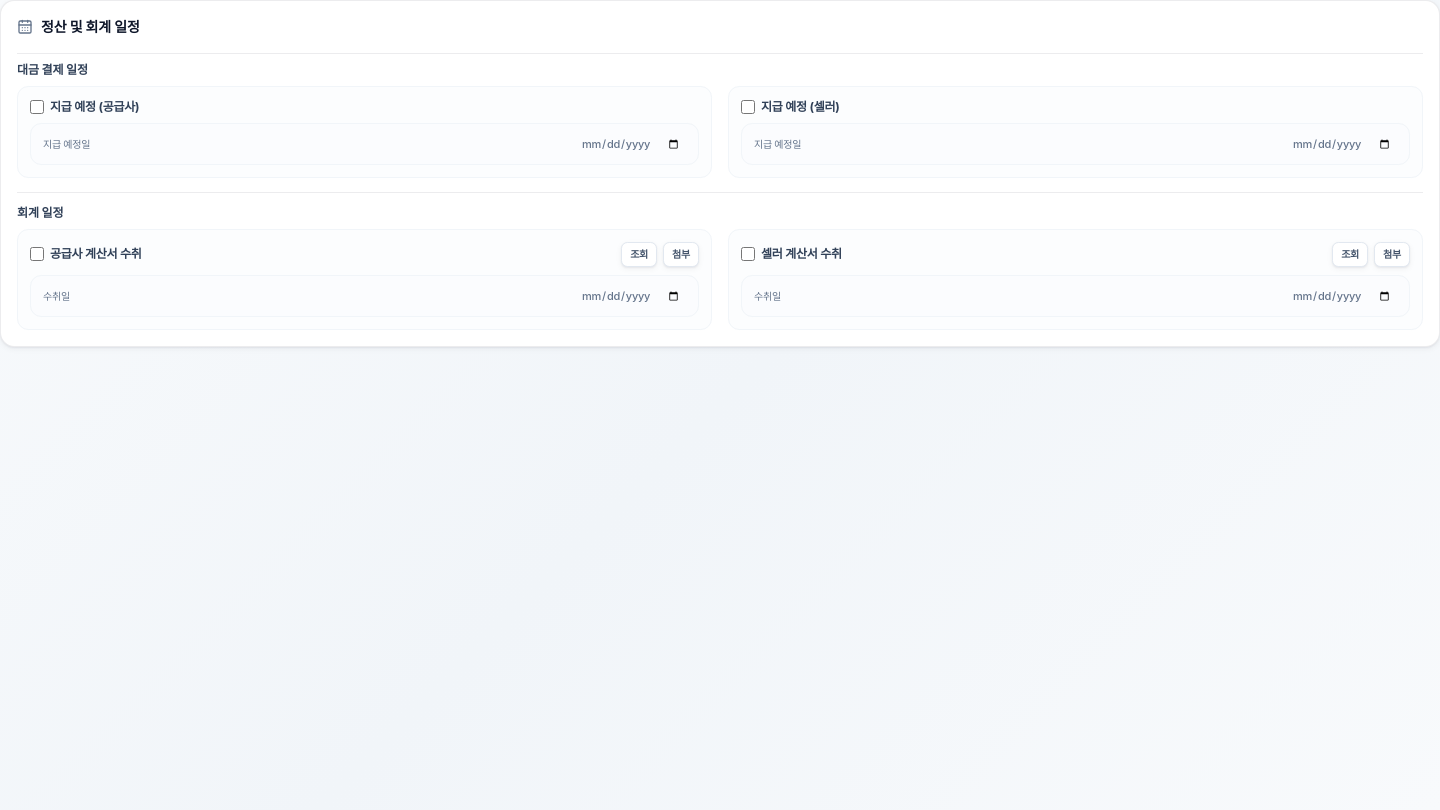
Test case: SettlementSection — VERIFIED 건의 승인 경로 › 조회한 칸의 계산서만 그 모달에 뜬다 — 형제 칸의 건이 섞이지 않는다
Note: 공급사 칸에서 조회하면 셀러 슬롯의 이 건은 그 모달에 없어야 한다.
Click the button "조회".
click(639, 254)  # box [621, 242, 657, 267]
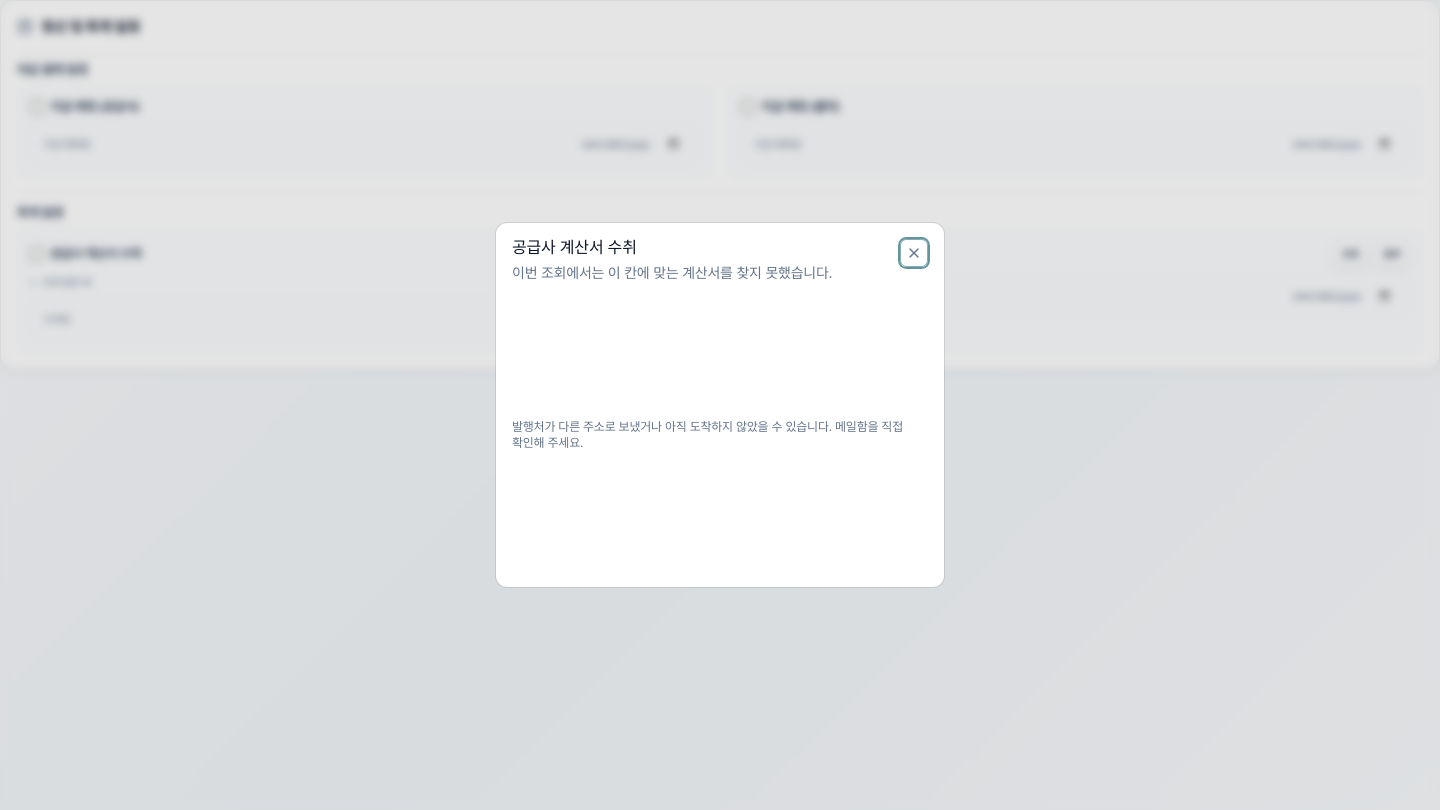
Expected: the button "승인" is not shown
Now the text "이번 조회에서는 이 칸에 맞는 계산서를 찾지 못했습니다." is shown, box [512, 263, 832, 283]
Now the number of buttons named "닫기" is 1
Click the button named "닫기".
click(914, 253)  # box [900, 239, 928, 267]
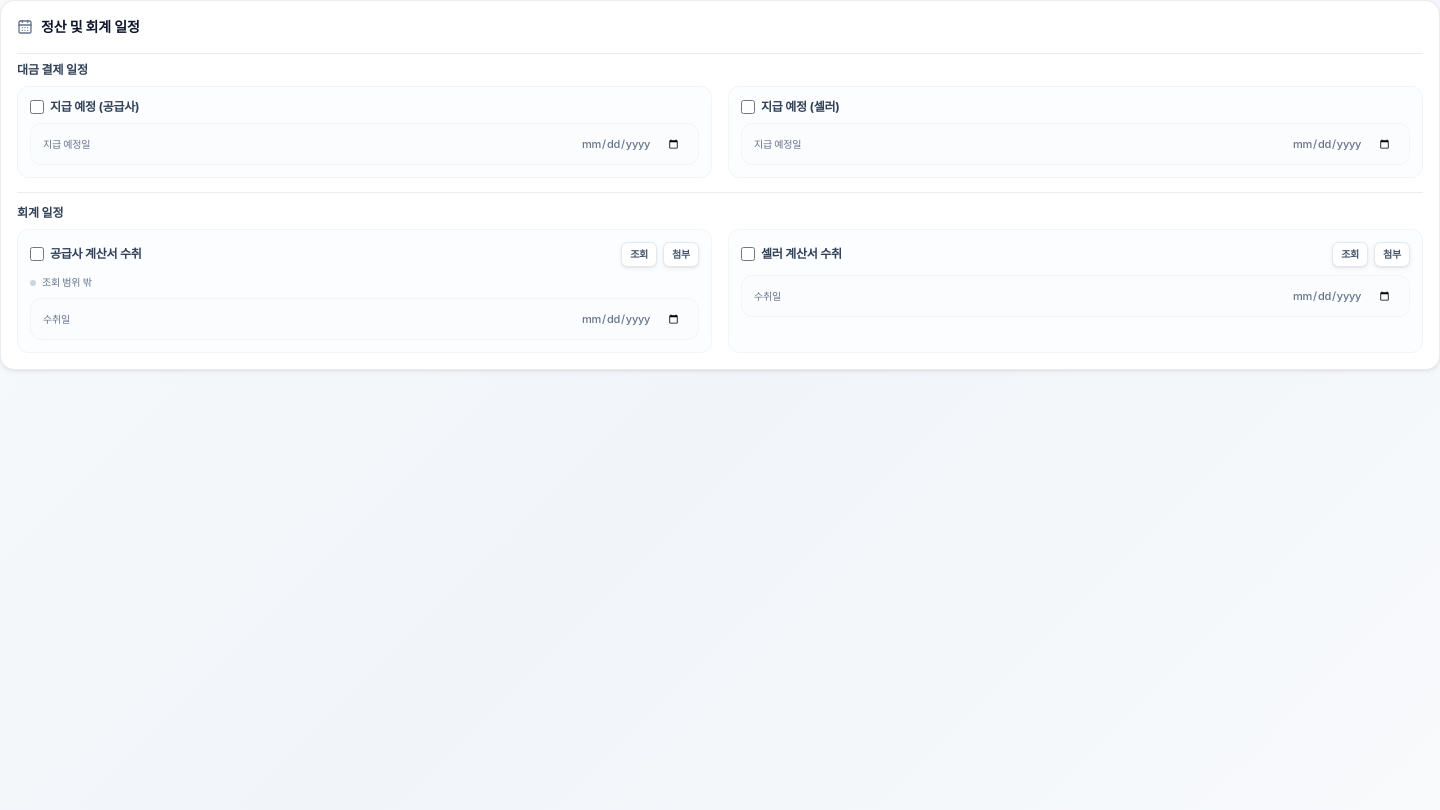
Now the dialog is gone
Note: 셀러 칸에서 조회하면 그 건이 뜬다.
Click the button "조회".
click(1350, 254)  # box [1332, 242, 1368, 267]
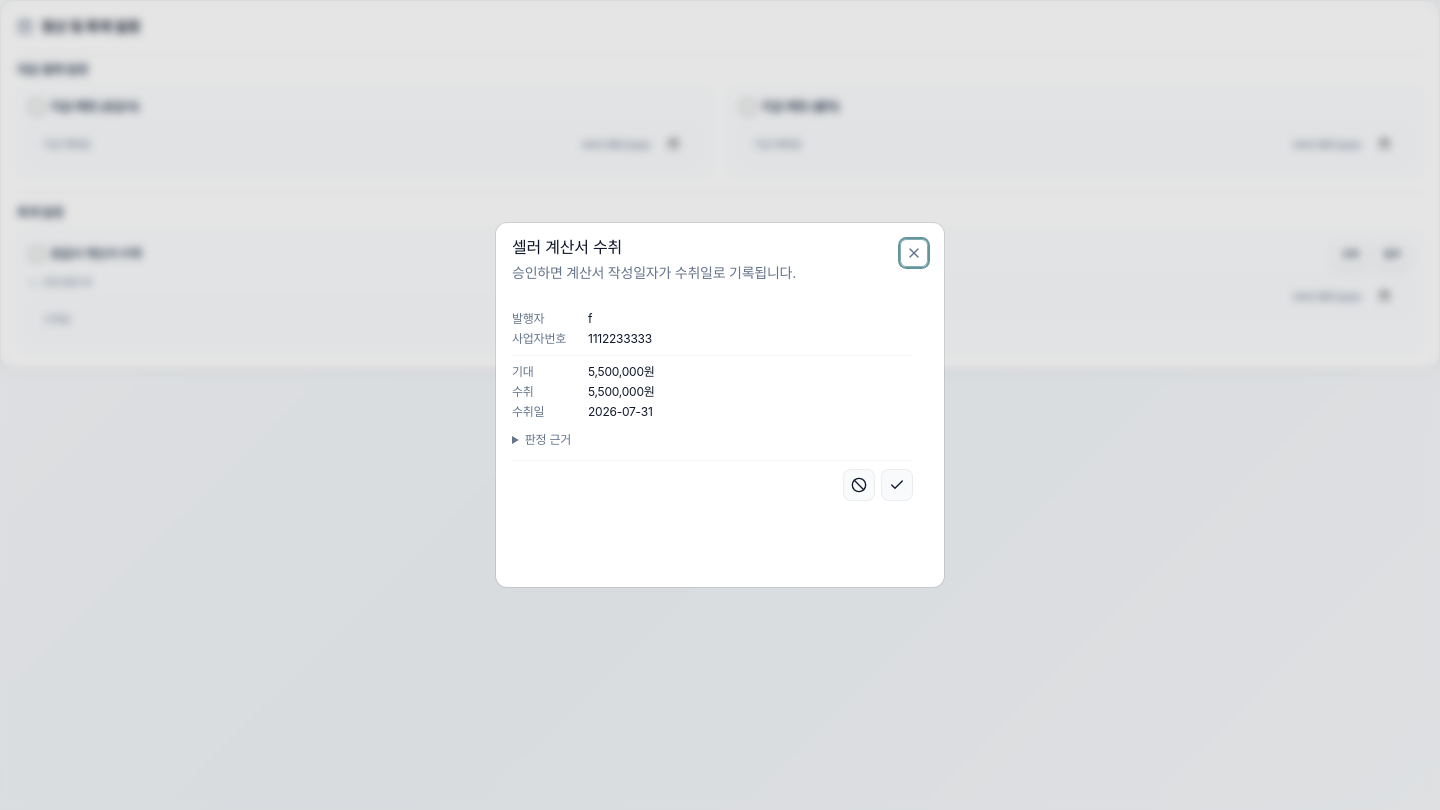
Now the button named "승인" is shown, box [881, 469, 913, 501]
